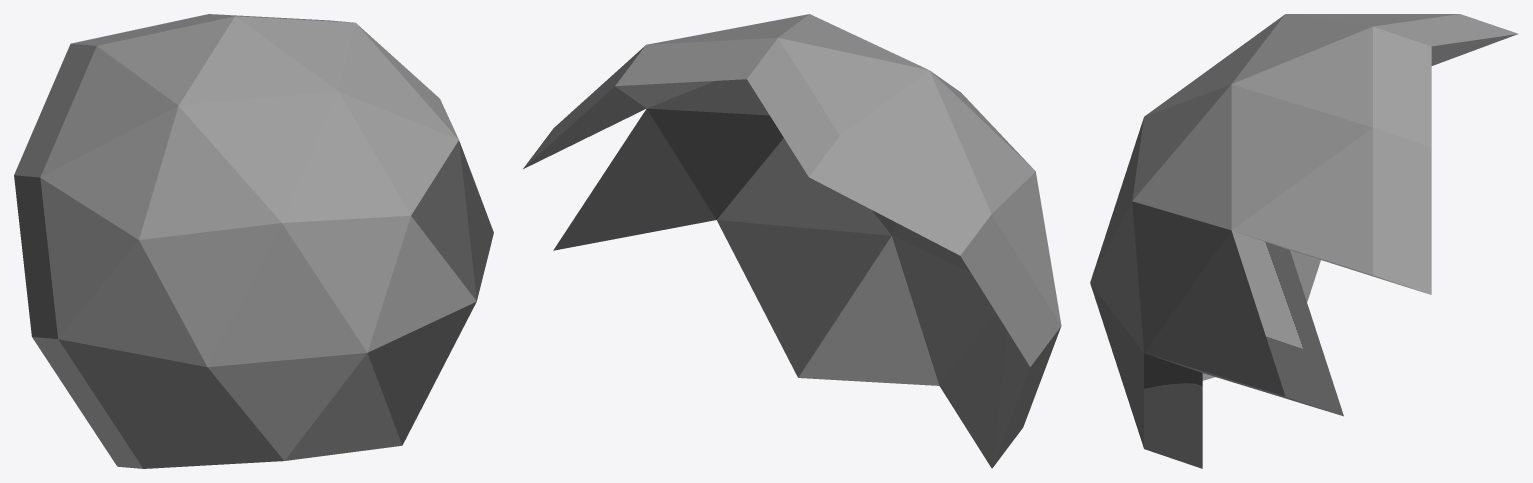
File: TargetDebris_5.fbx
3 renders of one model, left to right at view 1: azimuth 30°, elevation 25°; view 2: azimuth 150°, elevation 25°; view 3: azimuth 270°, elevation 25°, orthographic. The views are drawn at different scales.
Parts seen in each view (by area): view 1: Cube; view 2: Cube; view 3: Cube.
Part boxes in pixels (bbox=[...]): Cube: bbox=[14, 14, 493, 468]; Cube: bbox=[523, 14, 1061, 468]; Cube: bbox=[1090, 14, 1518, 468].
Size of the model in its own units: 508 by 427 by 404.
1 material, 1 textured.
